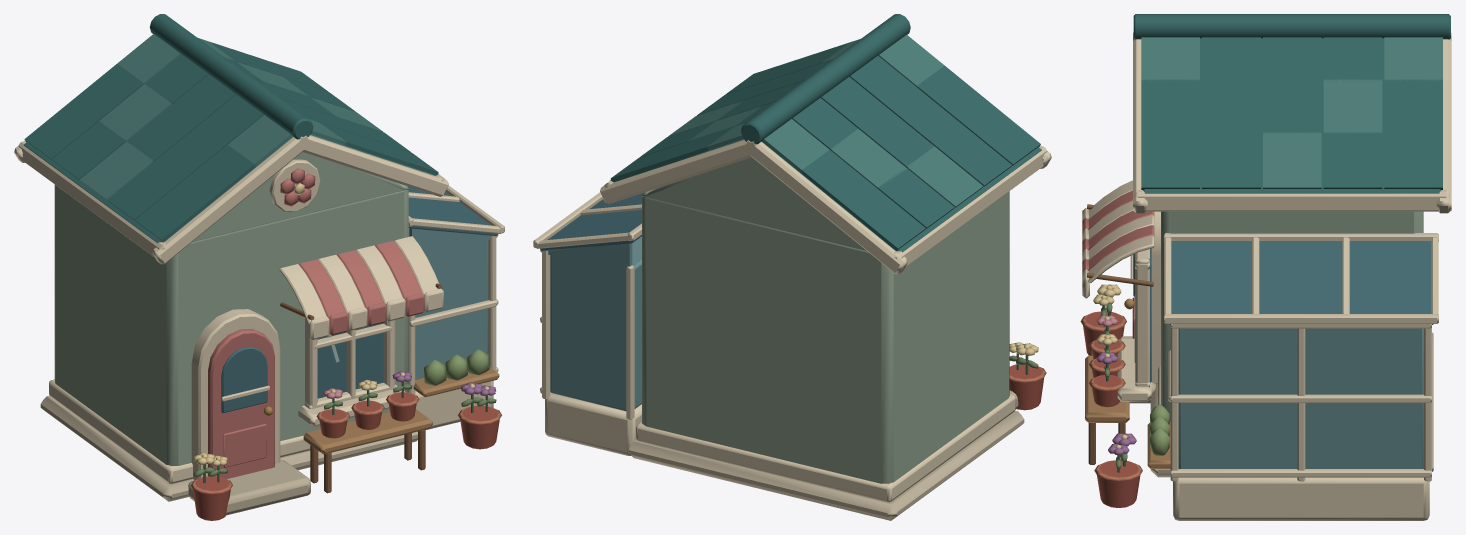
The model's file is florist_level_3.glb.
The picture shows the model from 3 angles, left to right: view 1: azimuth 30°, elevation 25°; view 2: azimuth 150°, elevation 25°; view 3: azimuth 270°, elevation 25°; orthographic projection. The views are drawn at different scales.
Visible parts, largest first — view 1: florist_level_3_runtime; view 2: florist_level_3_runtime; view 3: florist_level_3_runtime.
Part boxes in pixels (x1,y1,x2,y2): florist_level_3_runtime: (14,14,504,520); florist_level_3_runtime: (533,14,1051,520); florist_level_3_runtime: (1080,14,1451,520).
Bounding box in the file's own units: 4.02 × 3.83 × 3.25.
